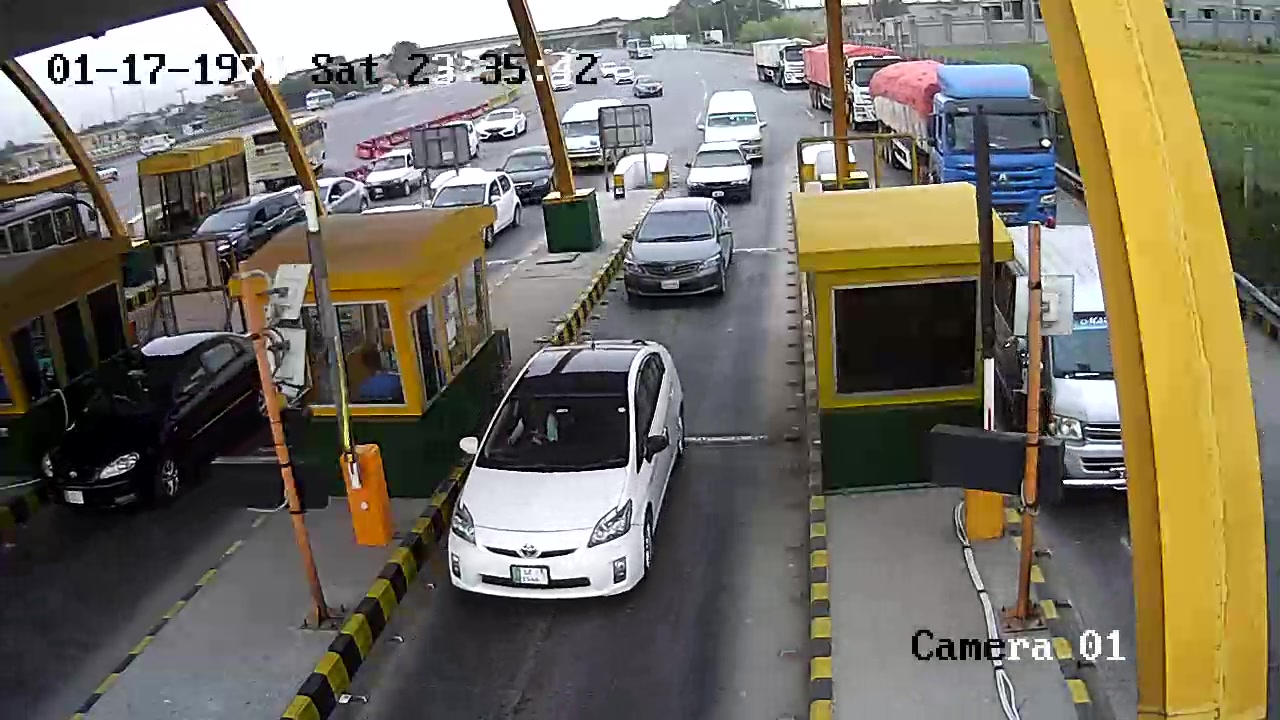F1: (421, 335, 722, 617), (622, 197, 735, 307)
